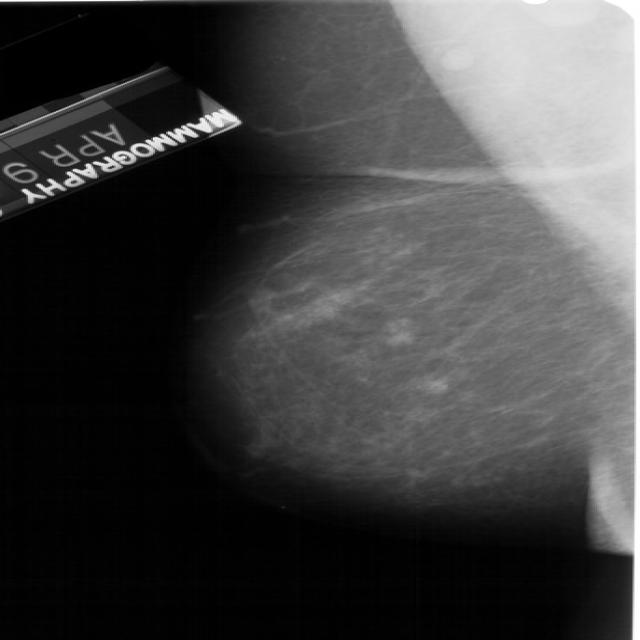tumour: (242, 286, 272, 316)
